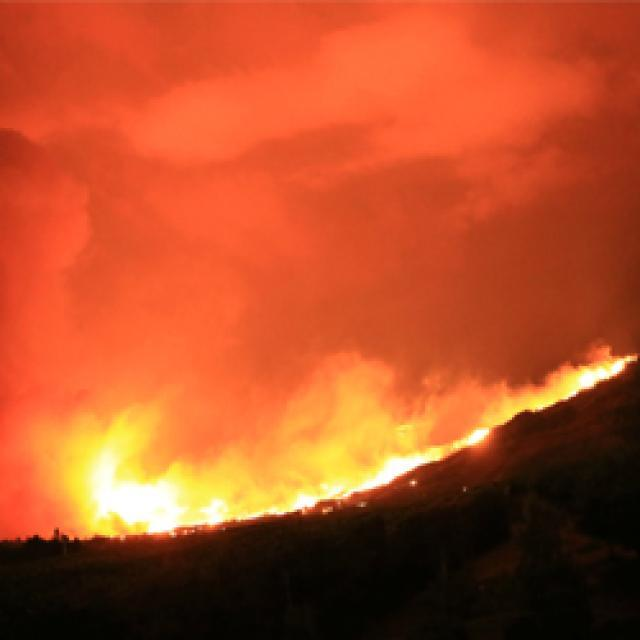Fire: (256, 347, 512, 524), (26, 398, 256, 558), (504, 330, 640, 415)
Smoke: (0, 0, 640, 355), (0, 298, 436, 436)
